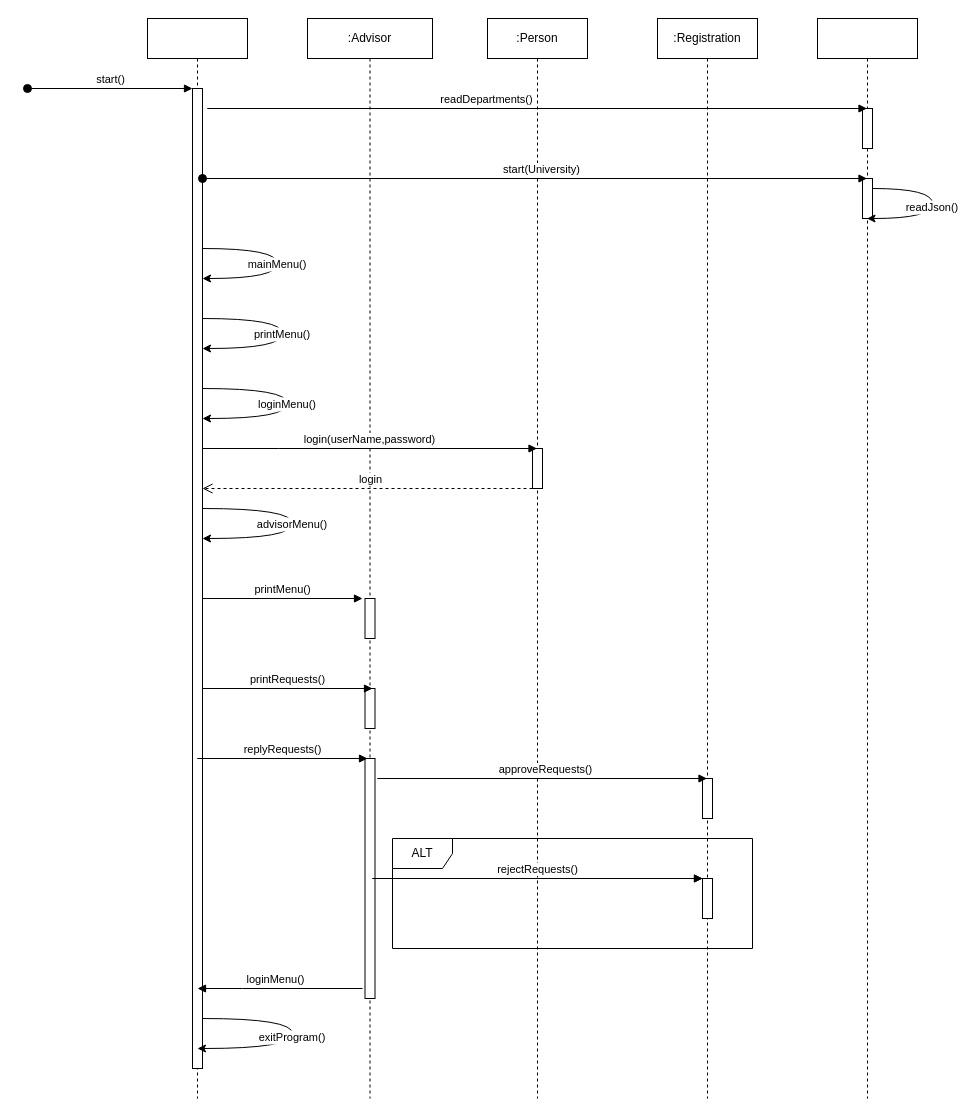
This 977x1116 diagram has some shape labels left out. The shapes that lost their labels are listed below. From the top down, each one's box as (x1, y1, x2, y2) in pixels, then its label:
(146, 18, 248, 1098): :Course Registration System
(816, 18, 918, 1098): :JSONReader
